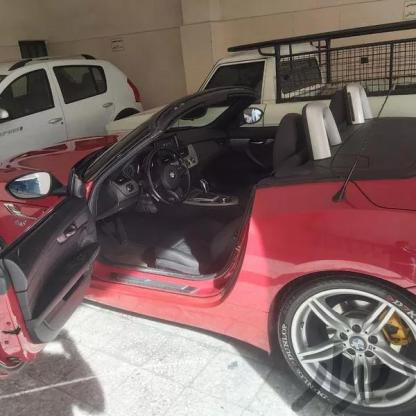Car: (0, 114, 416, 416), (129, 13, 416, 144), (0, 40, 160, 154)
